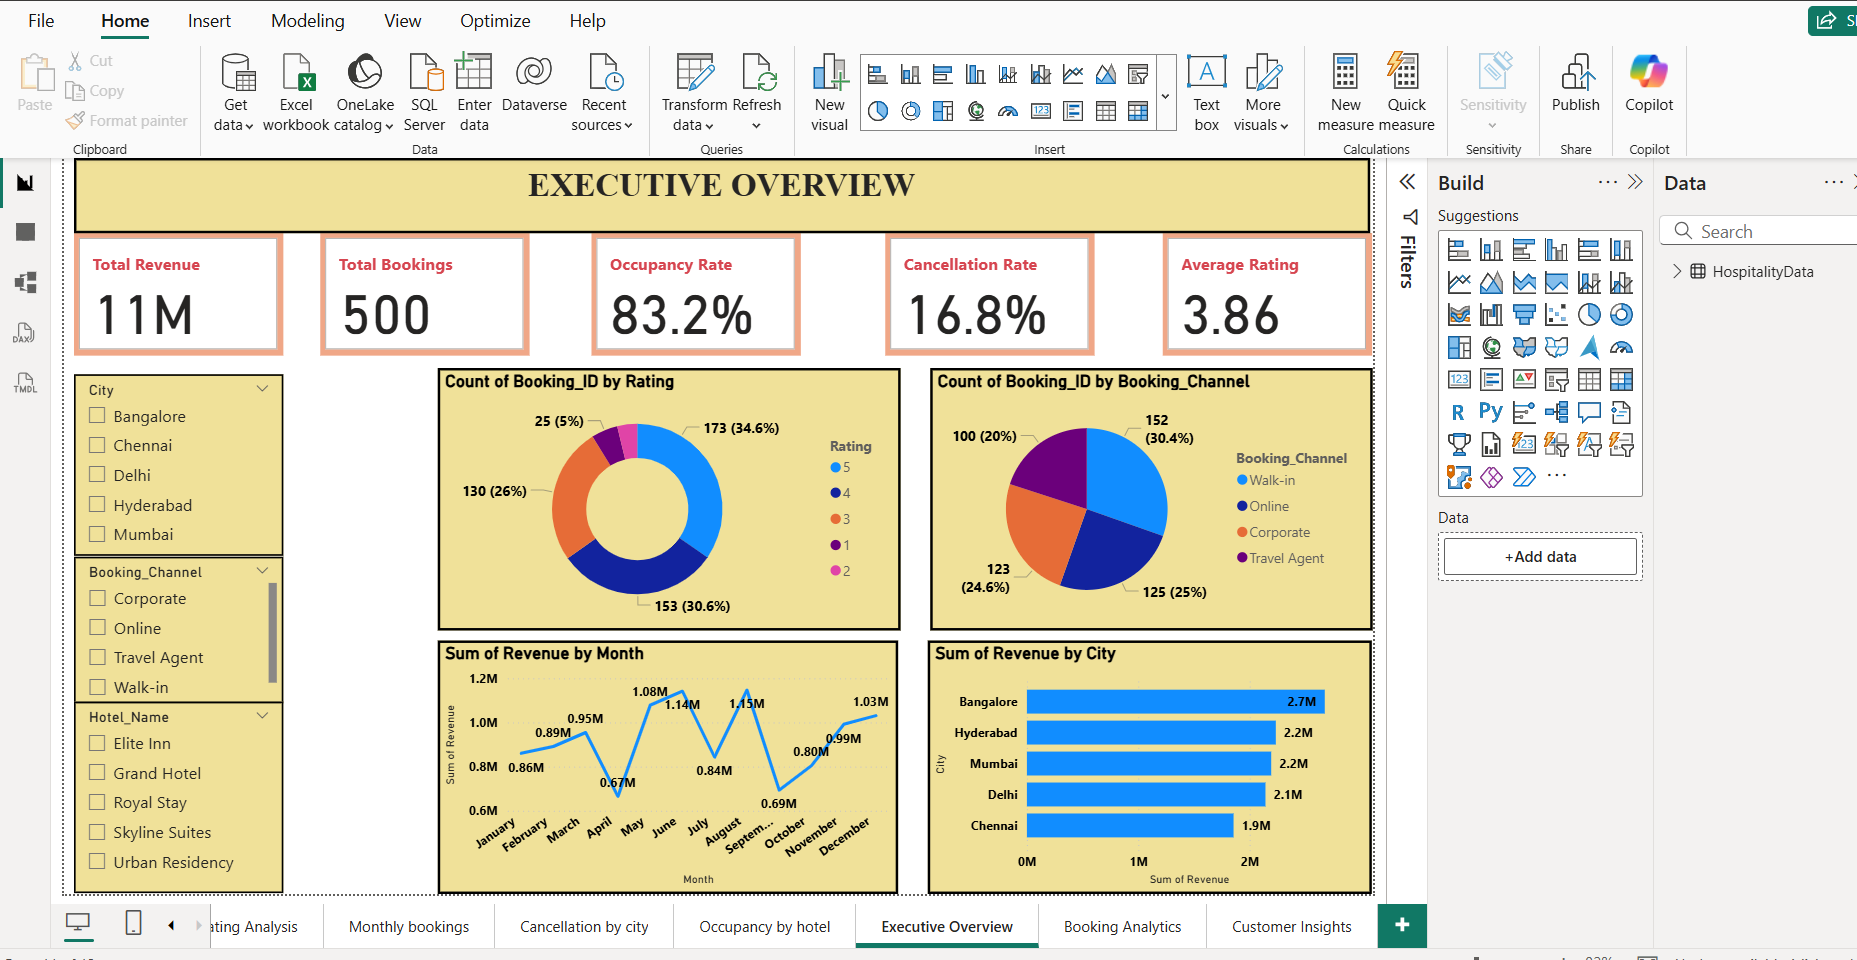

The page's visual inventory and layout, read from the dashboard file:
{"tool":"powerbi","page":{"name":"Executive Overview","canvas":[1280,720],"ordinal":10},"visuals":[{"type":"cardVisual","fields":{"Data":["HospitalityData.Total Revenue"]},"box":[10.1,73.6,204.9,119.7],"z":0},{"type":"cardVisual","fields":{"Data":["HospitalityData.Total Bookings"]},"box":[251,73.6,204.9,119.7],"z":1000},{"type":"cardVisual","fields":{"Data":["HospitalityData.Occupancy Rate"]},"box":[516.5,73.6,204.9,119.7],"z":2000},{"type":"cardVisual","fields":{"Data":["HospitalityData.Cancellation Rate"]},"box":[803.6,73.6,204.9,119.7],"z":3000},{"type":"cardVisual","fields":{"Data":["HospitalityData.Average Rating"]},"box":[1074.9,73.6,204.9,119.7],"z":4000},{"type":"lineChart","fields":{"Category":["HospitalityData.Booking_Date.Variation.Date Hierarchy.Month"],"Y":["Sum(HospitalityData.Revenue)"]},"box":[365,471.8,450.1,248.2],"z":5000},{"type":"clusteredBarChart","fields":{"Category":["HospitalityData.City"],"Y":["Sum(HospitalityData.Revenue)"]},"box":[845.5,471.8,434.3,248.2],"z":6000},{"type":"pieChart","fields":{"Category":["HospitalityData.Booking_Channel"],"Y":["CountNonNull(HospitalityData.Booking_ID)"]},"box":[846.9,204.9,432.8,256.8],"z":7000},{"type":"donutChart","fields":{"Category":["HospitalityData.Rating"],"Y":["CountNonNull(HospitalityData.Booking_ID)"]},"box":[365,204.9,453,256.8],"z":8000},{"type":"slicer","fields":{"Values":["HospitalityData.City"]},"box":[10.1,212.1,204.9,177.5],"z":9000},{"type":"slicer","fields":{"Values":["HospitalityData.Booking_Channel"]},"box":[10.1,389.5,204.9,142.8],"z":10000},{"type":"slicer","fields":{"Values":["HospitalityData.Hotel_Name"]},"box":[10.1,532.4,204.9,187.6],"z":11000},{"type":"textbox","box":[10.1,0,1268.2,73.6],"z":11001}]}

Visuals, with their boxes on the page's 1280x720 design canvas (x1, y1, x2, y2). These are canvas units, not pixel positions in the 1857x960 screenshot, which may show the page scaled, cropped or inside an application window:
cardVisual - HospitalityData.Total Revenue: detection(10, 74, 215, 193)
cardVisual - HospitalityData.Total Bookings: detection(251, 74, 456, 193)
cardVisual - HospitalityData.Occupancy Rate: detection(516, 74, 721, 193)
cardVisual - HospitalityData.Cancellation Rate: detection(804, 74, 1008, 193)
cardVisual - HospitalityData.Average Rating: detection(1075, 74, 1280, 193)
lineChart - HospitalityData.Booking_Date.Variation.Date Hierarchy.Month x Sum(HospitalityData.Revenue): detection(365, 472, 815, 720)
clusteredBarChart - HospitalityData.City x Sum(HospitalityData.Revenue): detection(846, 472, 1280, 720)
pieChart - HospitalityData.Booking_Channel x CountNonNull(HospitalityData.Booking_ID): detection(847, 205, 1280, 462)
donutChart - HospitalityData.Rating x CountNonNull(HospitalityData.Booking_ID): detection(365, 205, 818, 462)
slicer - HospitalityData.City: detection(10, 212, 215, 390)
slicer - HospitalityData.Booking_Channel: detection(10, 390, 215, 532)
slicer - HospitalityData.Hotel_Name: detection(10, 532, 215, 720)
textbox: detection(10, 0, 1278, 74)
